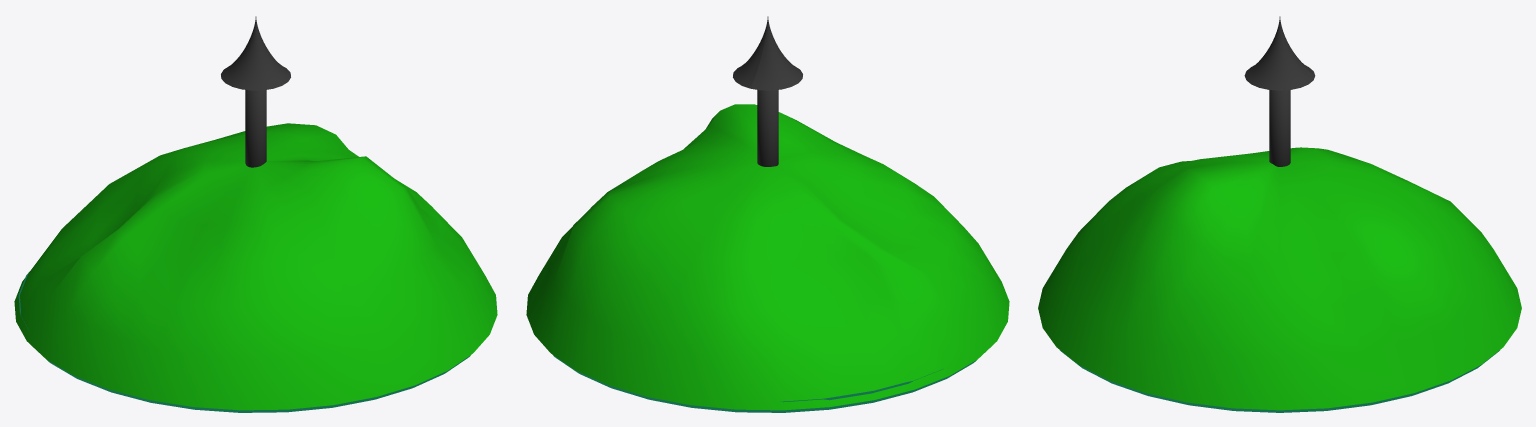
Rendered from 12_Same area vector for same boundary animation.glb.
3 views of the same model, side by side, from view 1: azimuth 30°, elevation 25°; view 2: azimuth 150°, elevation 25°; view 3: azimuth 270°, elevation 25° (orthographic).
Visible parts, largest first — view 1: Sphere, Cylinder; view 2: Sphere, Cylinder; view 3: Sphere, Cylinder.
Boxes of the visible parts, x1,y1,x2,y2 form: Sphere: (14,16,497,410); Cylinder: (18,271,470,412); Sphere: (526,16,1009,410); Cylinder: (553,346,991,412); Sphere: (1038,16,1521,410); Cylinder: (1060,350,1499,412).
Size of the model in its own units: 1.85 by 1.5 by 1.85.
